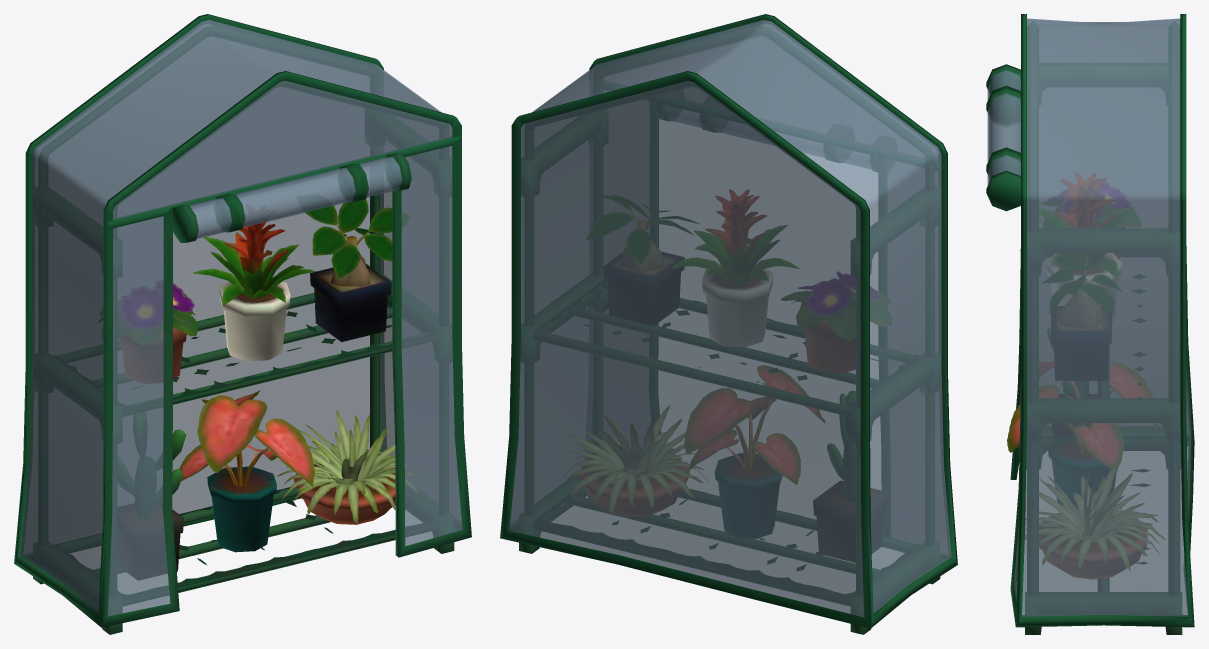
3 views of the same model, side by side, from view 1: azimuth 30°, elevation 25°; view 2: azimuth 150°, elevation 25°; view 3: azimuth 270°, elevation 25° (orthographic). The views are drawn at different scales.
Size of the model in its own units: 16.38 by 21.97 by 7.78.
Materials: 3 (2 with a texture image).
